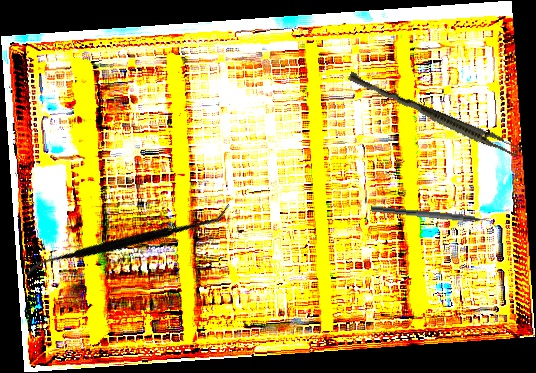Chopper: (369, 205, 500, 232)
Spatula Surgical: (23, 133, 232, 346)
Tissue Forceps: (345, 71, 523, 159)
